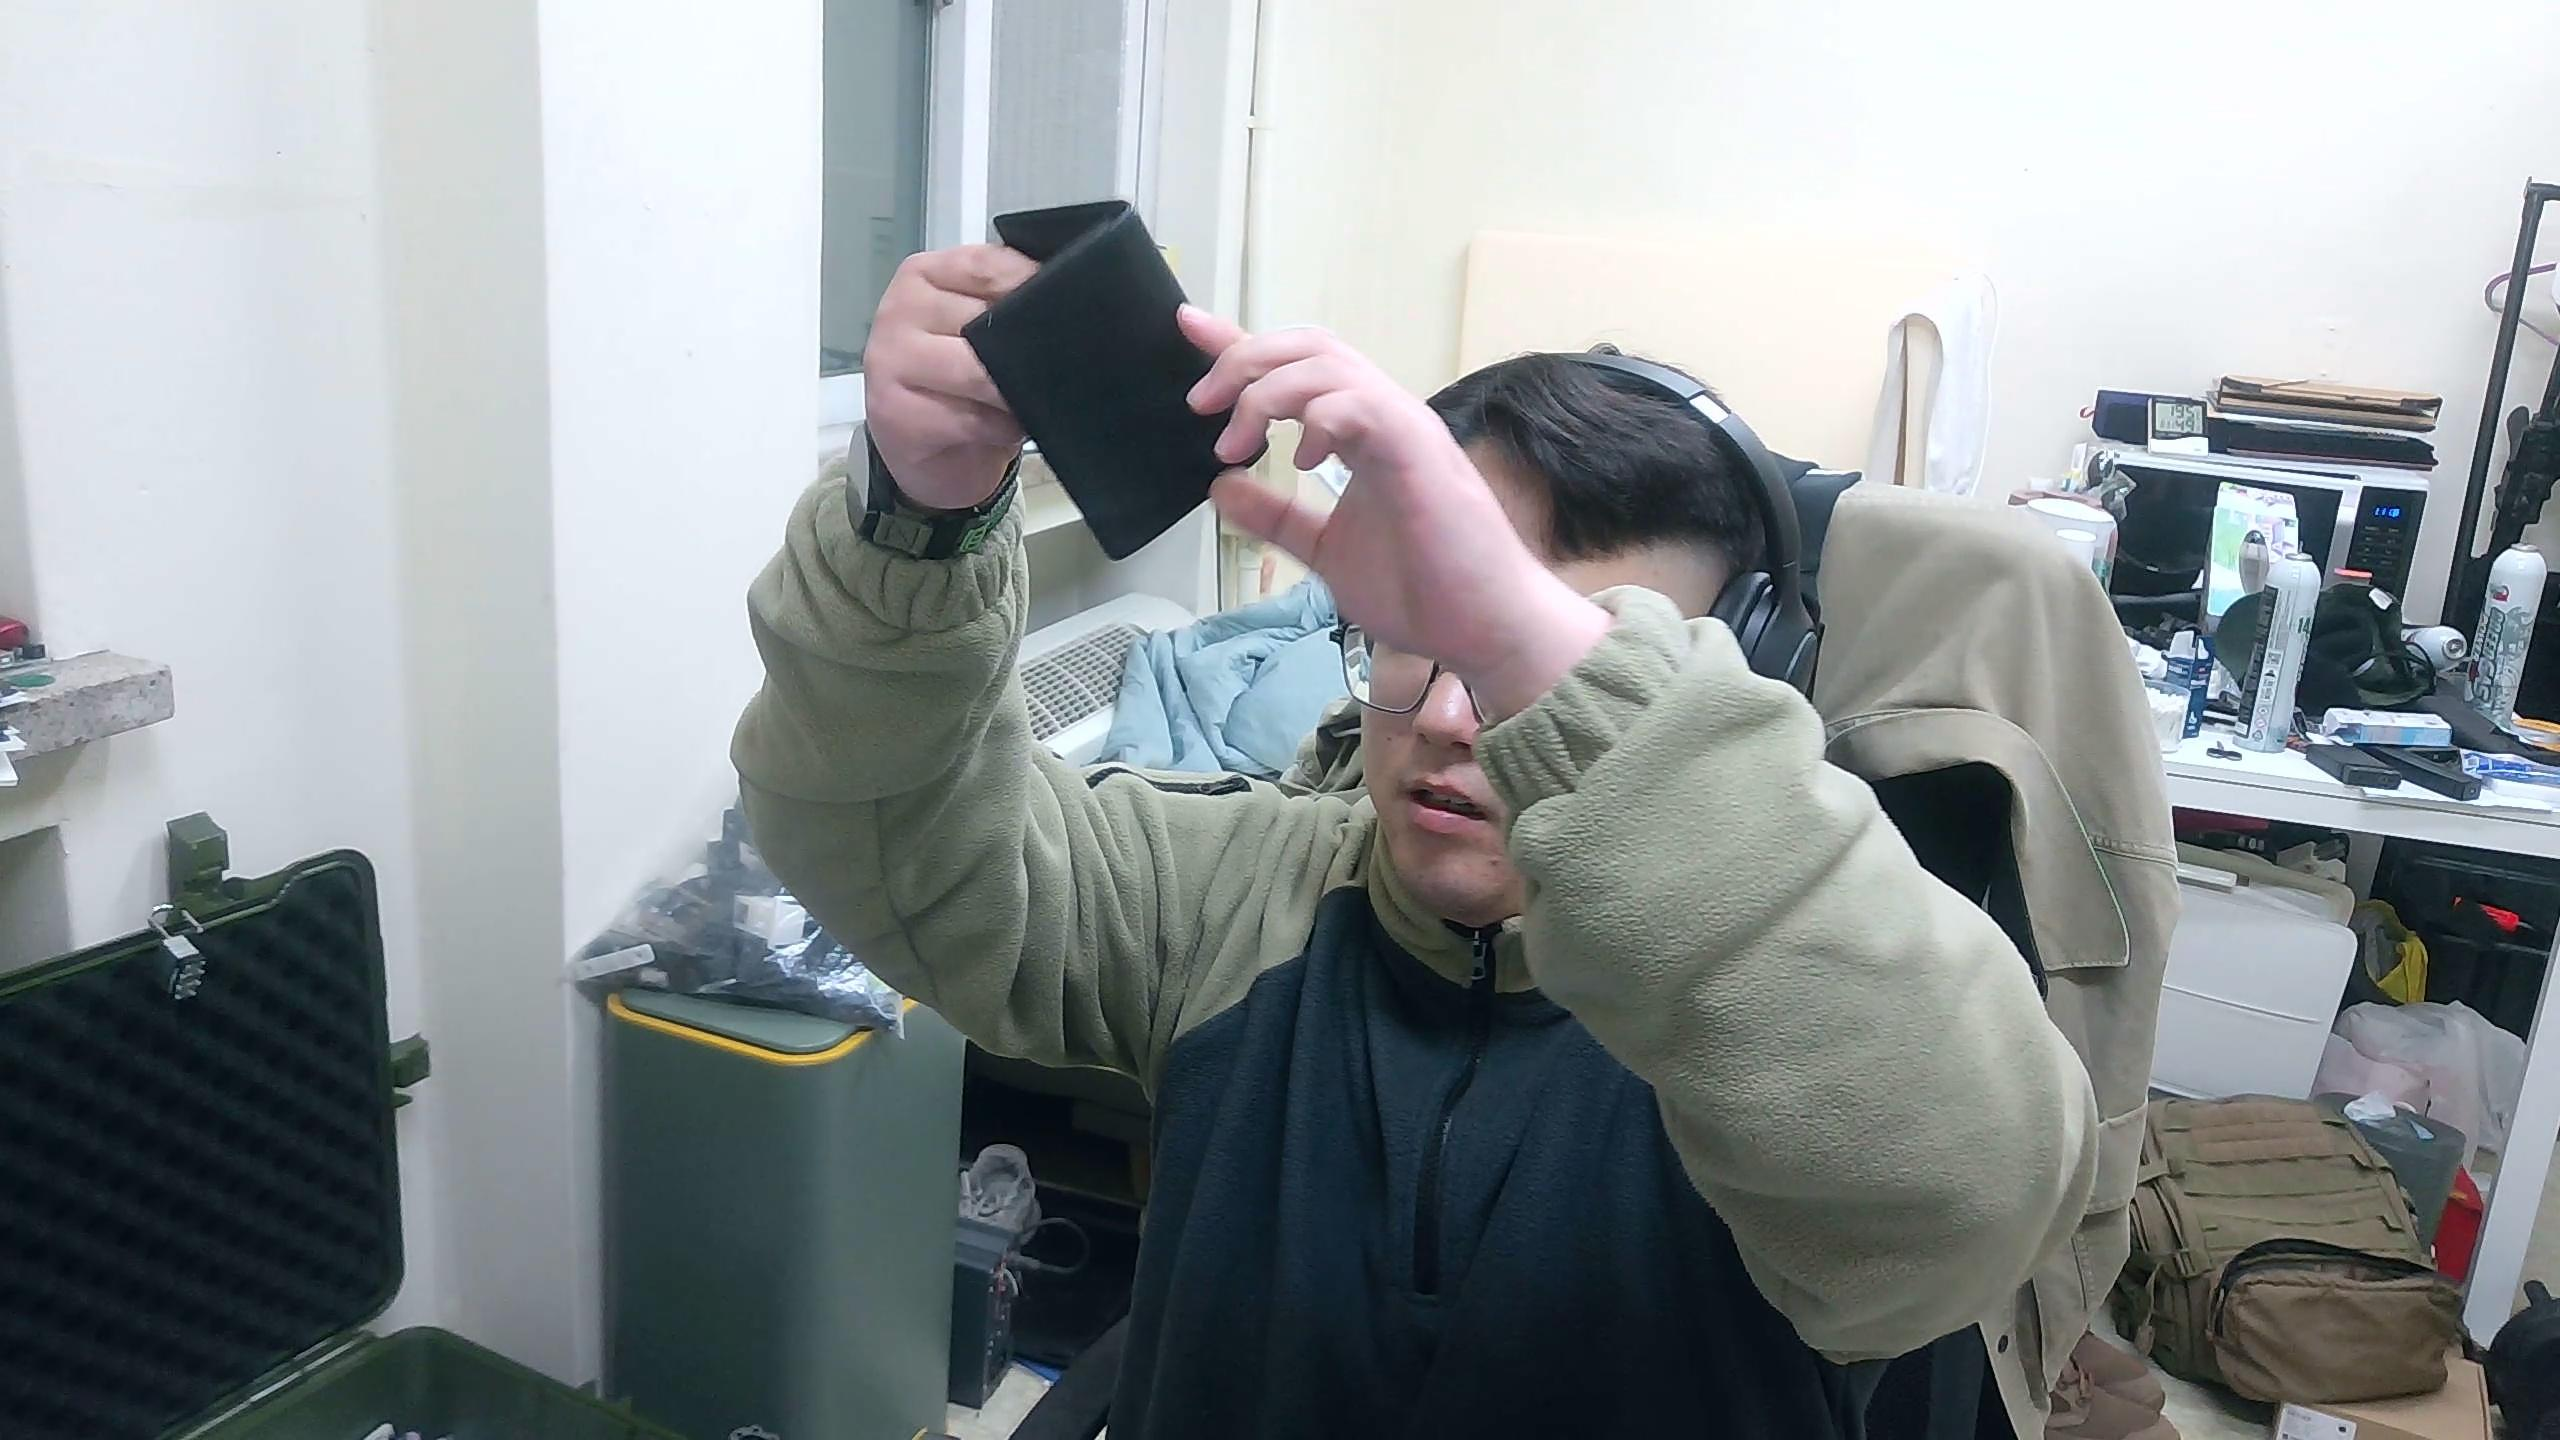earphone: (962, 197, 1271, 564)
